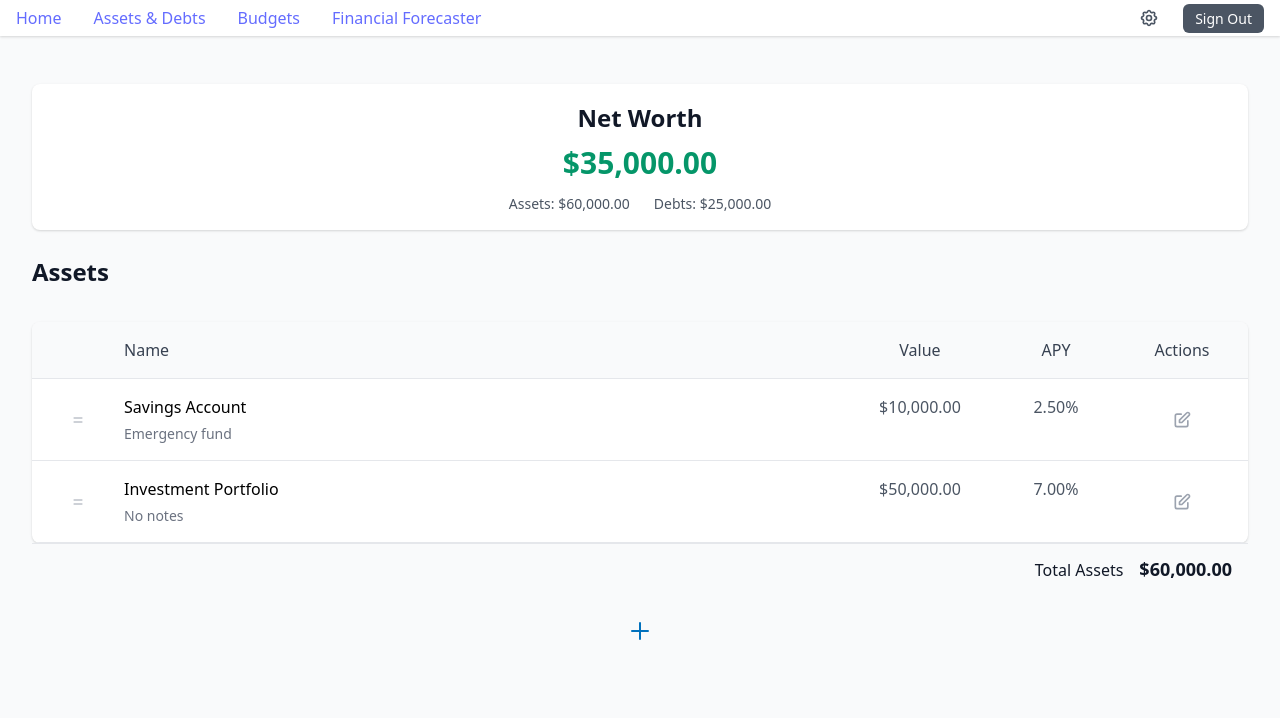
Test: Assets Component › Error Handling › displays error message on delete failure
Click the button with test id "edit-asset-asset1" at (1182, 420), box left=1164, top=395, right=1200, bottom=444
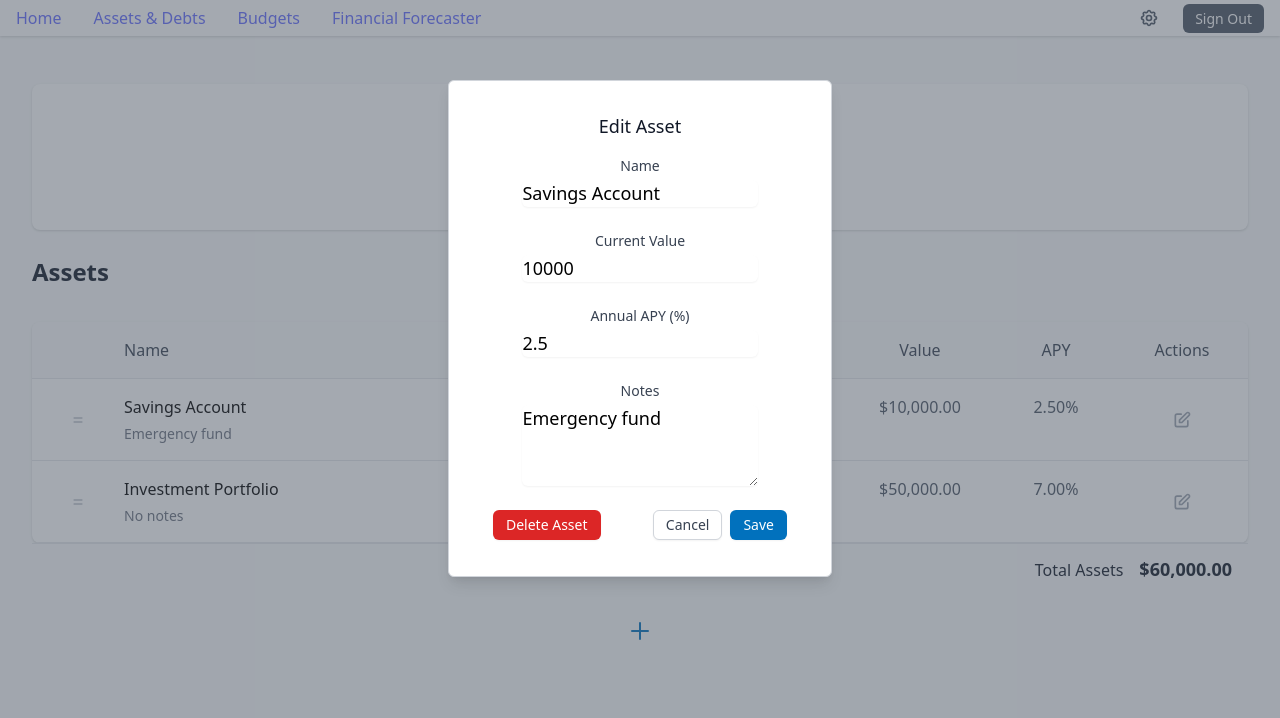
Result: the heading "Edit Asset" is shown at left=599, top=114, right=681, bottom=138
Click the button "Delete Asset" at (547, 525), box left=493, top=510, right=600, bottom=540
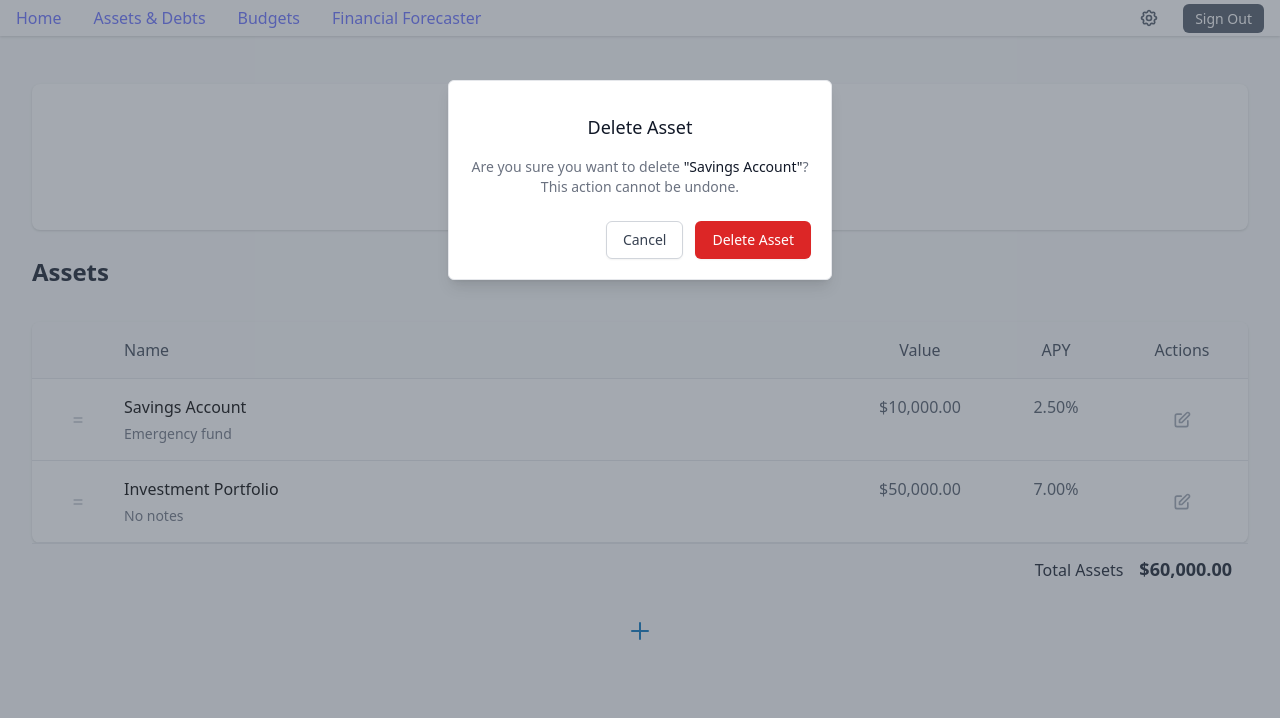
Result: the text "Are you sure you want to delete" is shown at left=472, top=157, right=684, bottom=176
Note: Click the delete button in the confirmation modal
Click the button "Delete Asset" at (753, 240), box left=696, top=221, right=811, bottom=259
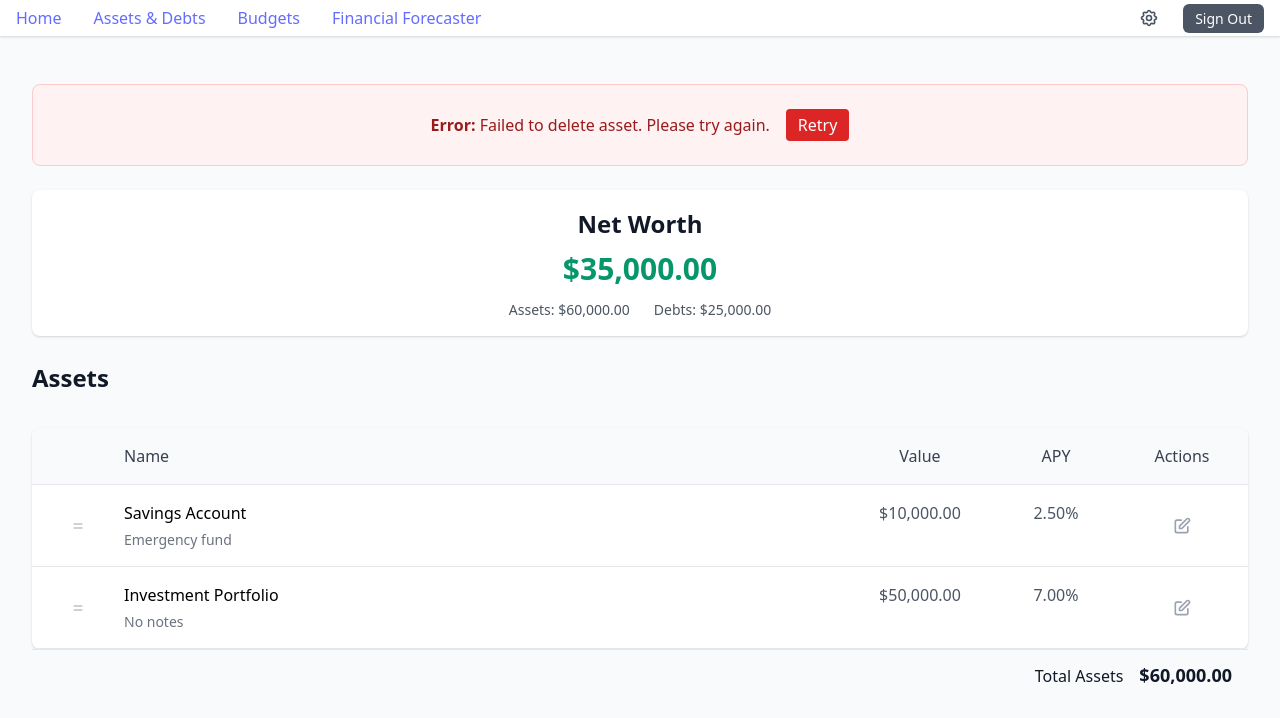
Result: the text "Failed to delete asset. Please try again." is shown at left=480, top=114, right=770, bottom=136
